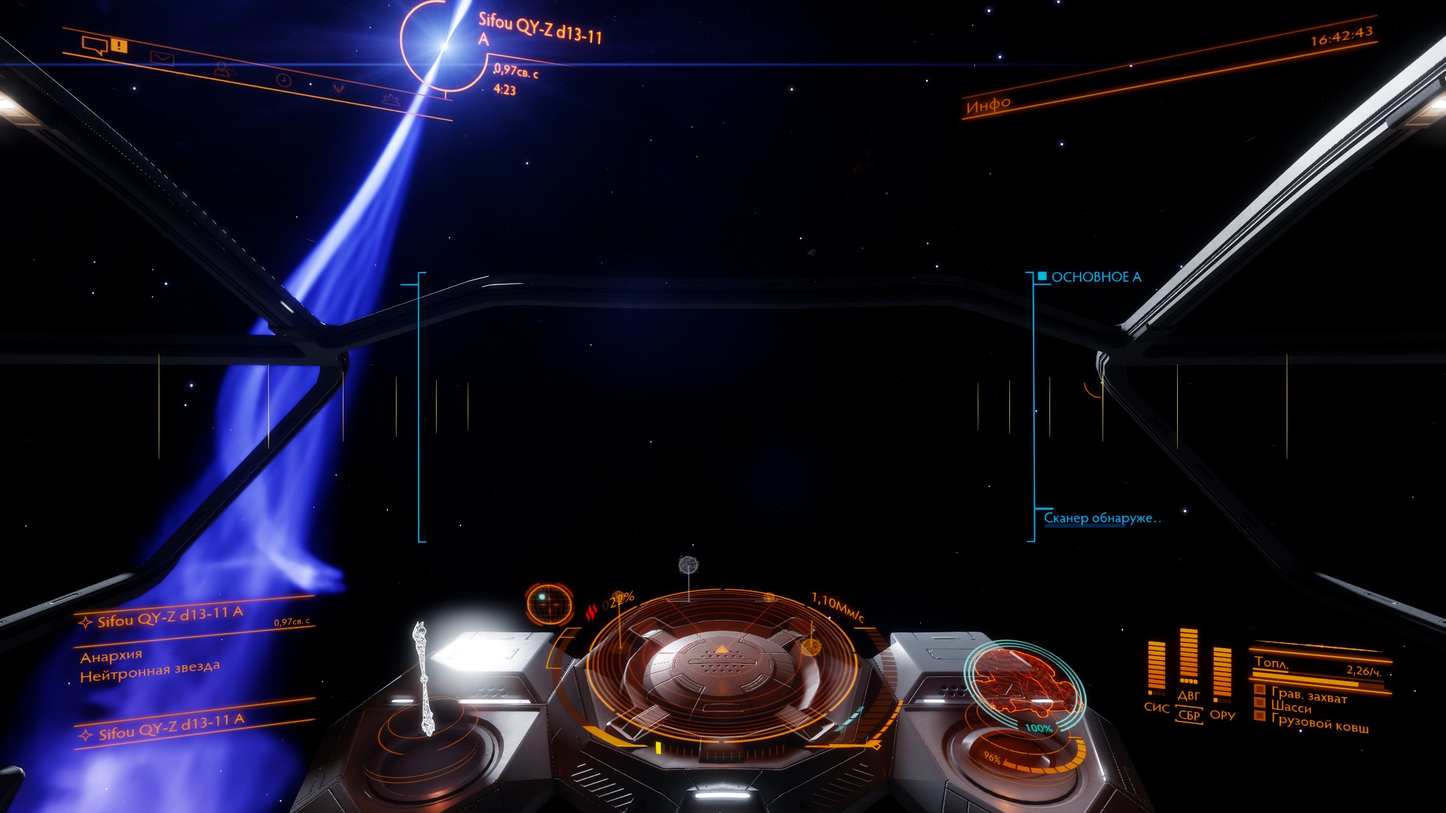core: (334, 553, 1149, 813)
jetcone: (281, 0, 502, 325), (35, 624, 251, 813)
